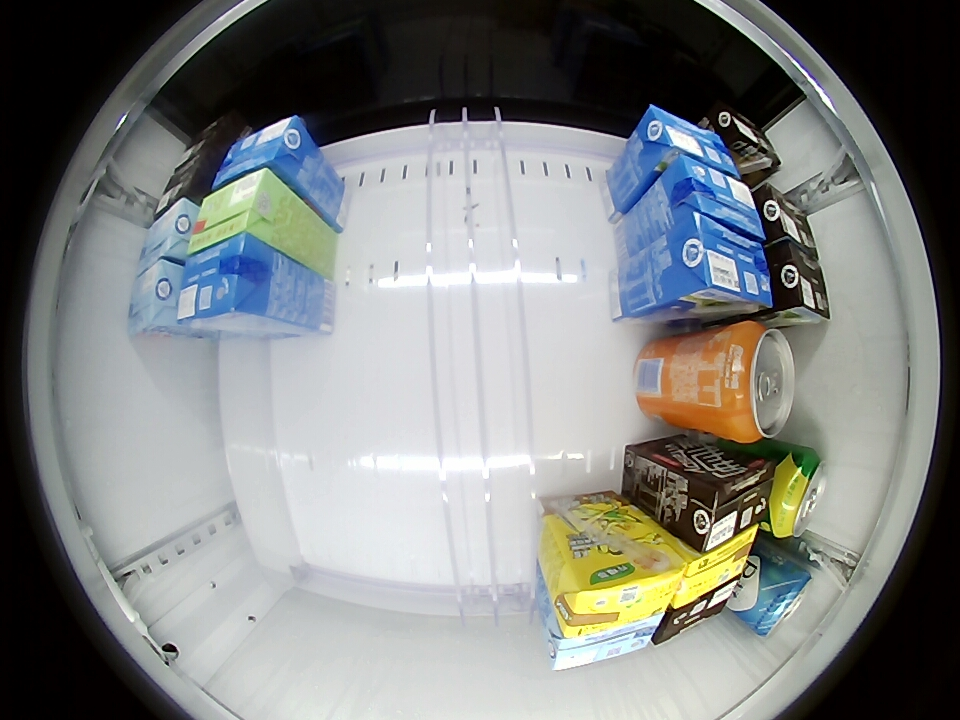fenda: (711, 320, 796, 443)
qingdaowangzi-2: (741, 561, 813, 637)
wanglaoji: (188, 167, 283, 256)
weitanai: (659, 210, 773, 312), (176, 231, 279, 328), (662, 154, 764, 239), (632, 105, 739, 178), (211, 115, 316, 189)
weitanai2: (680, 456, 772, 554), (654, 578, 738, 645), (710, 104, 782, 178), (768, 245, 830, 322), (171, 110, 253, 167), (155, 149, 221, 217), (755, 185, 818, 255)
weitanaiditang: (545, 615, 662, 672), (137, 197, 201, 276), (127, 258, 183, 338)
weitaningmeng: (552, 535, 683, 637), (670, 527, 759, 604)
xuebi2: (767, 449, 828, 539)
